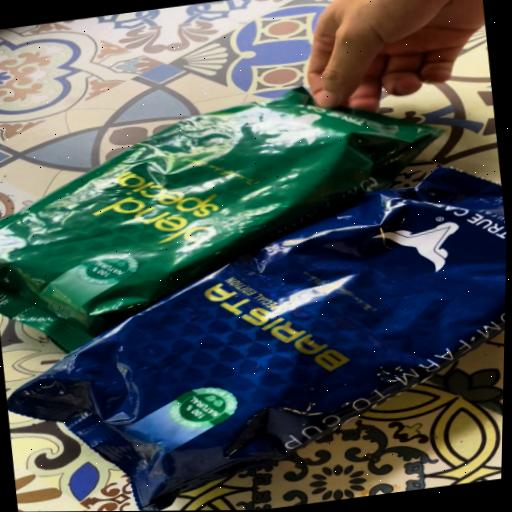cafe_hat: (7, 168, 507, 511)
cafe_xay: (0, 88, 437, 352)
